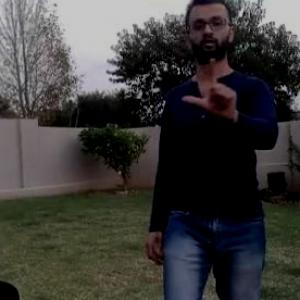land_hand: (177, 49, 246, 129)
